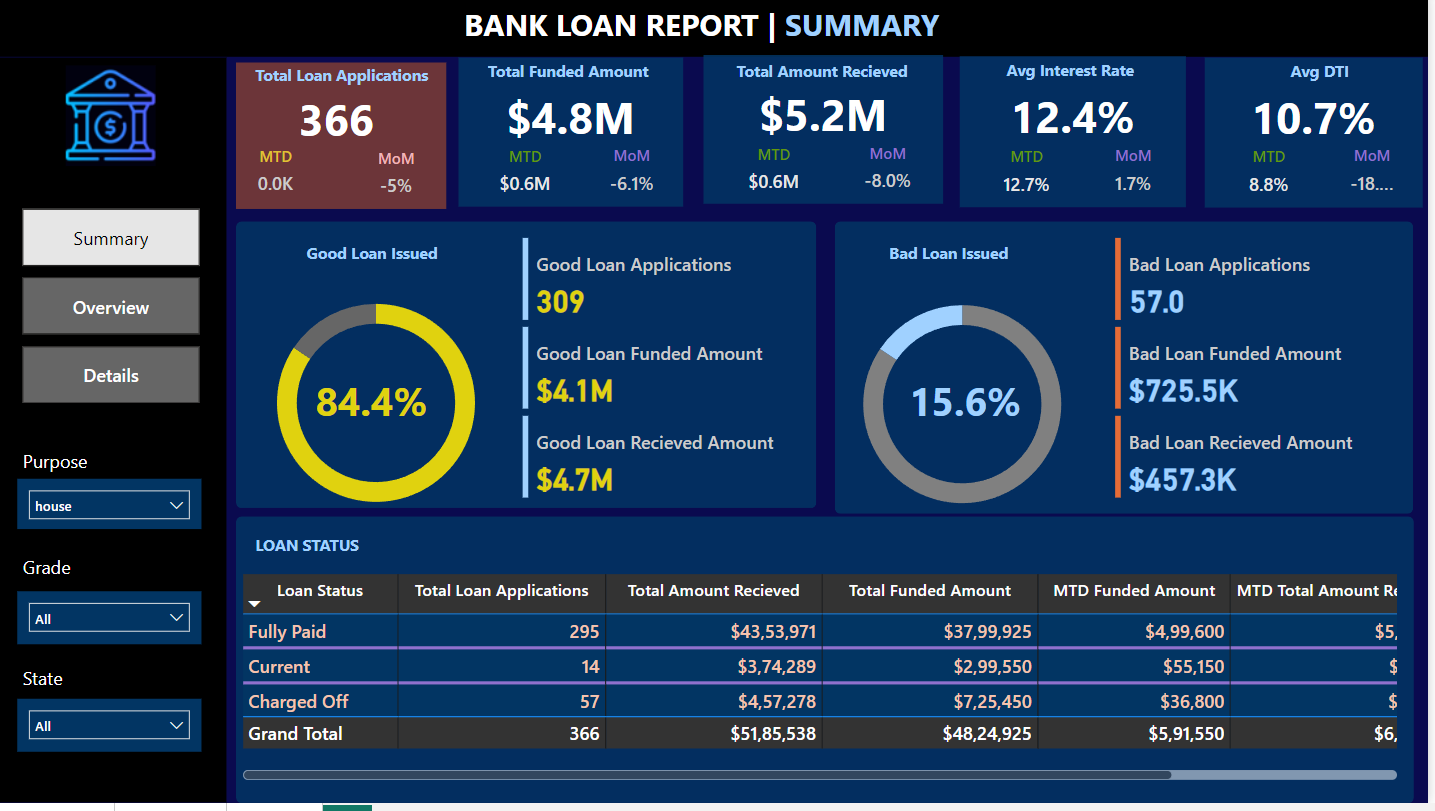

The dashboard page shown, as its layout file describes it:
{"tool":"powerbi","page":{"name":"Summary","canvas":[1280,720],"ordinal":0},"visuals":[{"type":"shape","box":[0,0,1280.3,55],"z":0},{"type":"shape","box":[633.9,54.5,213.3,132.4],"z":0,"group":"g13"},{"type":"shape","box":[862.1,54.6,201.3,134.8],"z":0,"group":"g10"},{"type":"shape","box":[416.5,55.8,200.2,132.9],"z":0,"group":"g11"},{"type":"shape","box":[1080.7,55.8,194.1,133.6],"z":0,"group":"g12"},{"type":"card","fields":{"Values":["Bank_Loan.Total Amount Recieved"]},"box":[633.8,74.7,213.3,63.2],"z":1000,"group":"g13"},{"type":"card","fields":{"Values":["Bank_Loan.Avg Interest Rate"]},"box":[862,75.1,201.3,64.3],"z":1000,"group":"g10"},{"type":"card","fields":{"Values":["Bank_Loan.Total Funded Amount"]},"box":[416.4,76,200.2,63.4],"z":1000,"group":"g11"},{"type":"card","fields":{"Values":["Bank_Loan.Avg DTI"]},"box":[1080.6,76.1,194.1,63.7],"z":1000,"group":"g12"},{"type":"shape","box":[218.1,463.9,1048.6,255.6],"z":1000},{"type":"textbox","box":[883.7,51.9,179.7,39.1],"z":2000,"group":"g10"},{"type":"textbox","box":[438,53.1,178.7,38.5],"z":2000,"group":"g11"},{"type":"textbox","box":[1101.5,53.1,173.3,38.7],"z":2000,"group":"g12"},{"type":"textbox","box":[657.7,54,177.8,41.7],"z":2000,"group":"g13"},{"type":"shape","box":[218.1,59.7,187.5,130.6],"z":2000},{"type":"shape","box":[0,56.1,209.8,663.4],"z":3000},{"type":"card","title":"MTD","fields":{"Values":["Bank_Loan.MTD Total Amount Recieved"]},"box":[659.7,132.9,74.3,53.4],"z":3000,"group":"g13"},{"type":"card","title":"MTD","fields":{"Values":["Bank_Loan.MTD Funded Amount"]},"box":[440.7,134.4,69.7,53.5],"z":3000,"group":"g11"},{"type":"card","title":"MTD","fields":{"Values":["Bank_Loan.MTD Avg Interest Rate"]},"box":[886.4,134.4,70.1,54.3],"z":3000,"group":"g10"},{"type":"card","title":"MTD","fields":{"Values":["Bank_Loan.MTD Average DTI"]},"box":[1104.2,134.9,67.6,53.8],"z":3000,"group":"g12"},{"type":"group","id":"g1","title":"Group 3","box":[862,51.9,201.4,137.5],"z":3001,"group":"g9"},{"type":"group","id":"g2","title":"Group 3","box":[416.4,53.1,200.3,135.5],"z":3001,"group":"g6"},{"type":"group","id":"g3","title":"Group 3","box":[633.8,54,213.4,133],"z":3001,"group":"g7"},{"type":"group","id":"g4","title":"Group 4","box":[416.4,53.1,200.3,135.5],"z":3002,"group":"g2"},{"type":"group","id":"g5","title":"Group 4","box":[1080.6,53.1,194.2,136.3],"z":3002,"group":"g8"},{"type":"card","fields":{"Values":["Bank_Loan.Toatl Loan Applications"]},"box":[209.6,79.3,196.5,62.6],"z":4000},{"type":"card","title":"MoM","fields":{"Values":["Bank_Loan.MOM Total Amount Recieved"]},"box":[767.2,131.3,60.9,54.3],"z":4000,"group":"g13"},{"type":"card","title":"MoM","fields":{"Values":["Bank_Loan.MOM Total Funded Amount"]},"box":[541.6,132.8,57.2,54.5],"z":4000,"group":"g11"},{"type":"card","title":"MoM","fields":{"Values":["Bank_Loan.MoM Avg Interest rate"]},"box":[987.9,132.8,57.5,55.3],"z":4000,"group":"g10"},{"type":"card","title":"MoM","fields":{"Values":["Bank_Loan.MOM Avg DTI"]},"box":[1202,133.3,55.4,54.8],"z":4000,"group":"g12"},{"type":"textbox","box":[230.8,56.7,175.4,38.1],"z":5000},{"type":"shape","box":[218.1,201.4,516.7,255.6],"z":6000},{"type":"card","title":"MTD","fields":{"Values":["Bank_Loan.MTD Loan Applications"]},"box":[230.2,135.1,46.1,53.1],"z":7000},{"type":"card","title":"MoM","fields":{"Values":["Bank_Loan.MOM Loan Applications"]},"box":[332.5,135.4,56.1,53.8],"z":8000},{"type":"card","fields":{"Values":["Bank_Loan.Good Loan %"]},"box":[276.2,340.1,125.4,42.2],"z":9000},{"type":"textbox","box":[416.1,3.6,447.4,48.2],"z":10000},{"type":"group","id":"g6","title":"Group 1","box":[416.4,53.1,200.3,135.5],"z":11000},{"type":"group","id":"g7","title":"Group 1","box":[633.8,54,213.4,133],"z":12000},{"type":"group","id":"g8","title":"Group 3","box":[1080.6,53.1,194.2,136.3],"z":13000},{"type":"group","id":"g9","title":"Group 1","box":[862,51.9,201.4,137.5],"z":14000},{"type":"donutChart","fields":{"Category":["Bank_Loan.Good Vs Bad Loan"],"Y":["Bank_Loan.Toatl Loan Applications"]},"box":[218.3,248.4,249.6,230.4],"z":15000},{"type":"shape","box":[751.4,201.4,515,260.5],"z":16000},{"type":"donutChart","fields":{"Category":["Bank_Loan.Good Vs Bad Loan"],"Y":["Bank_Loan.Toatl Loan Applications"]},"box":[740.5,249.6,249.6,230.4],"z":17000},{"type":"textbox","box":[276.4,215.3,134.7,34.7],"z":19000},{"type":"cardVisual","fields":{"Data":["Bank_Loan.Good Loan Applications","Bank_Loan.Good Loan Funded Amount","Bank_Loan.Good Loan Recieved Amount"]},"box":[468.3,211,258.5,242.7],"z":20000},{"type":"card","fields":{"Values":["Bank_Loan.Bad Loan %"]},"box":[804.4,340.1,125.4,42.2],"z":21000},{"type":"textbox","box":[794.4,215.3,134.7,33.3],"z":22000},{"type":"cardVisual","fields":{"Data":["Bank_Loan.Bad Loan Applications","Bank_Loan.Bad Loan Funded Amount","Bank_Loan.Bad Loan Recieved Amount"]},"box":[996.2,211.1,252.1,242.4],"z":23000},{"type":"tableEx","fields":{"Values":["Bank_Loan.loan_status","Bank_Loan.Toatl Loan Applications","Bank_Loan.Total Amount Recieved","Bank_Loan.Total Funded Amount","Bank_Loan.MTD Funded Amount","Bank_Loan.MTD Total Amount Recieved","Bank_Loan.Avg Interest Rate","Bank_Loan.Avg DTI"]},"box":[218.1,511.1,1038.9,193.1],"z":24000},{"type":"textbox","box":[230.6,475,180.6,36.1],"z":25000},{"type":"slicer","fields":{"Values":["Bank_Loan.address_state"]},"box":[23.6,626.4,163.9,47.2],"z":26000},{"type":"textbox","box":[23.6,591.7,163.9,34.7],"z":27000},{"type":"slicer","fields":{"Values":["Bank_Loan.grade"]},"box":[23.6,530.6,163.9,47.2],"z":28000},{"type":"slicer","fields":{"Values":["Bank_Loan.purpose"]},"box":[23.6,430.6,163.9,44.4],"z":29000},{"type":"textbox","box":[23.6,493.1,109.7,37.5],"z":30000},{"type":"textbox","box":[23.6,398.6,118.1,31.9],"z":31000},{"type":"group","id":"g10","title":"Group 7","box":[862,51.9,201.4,137.5],"z":31002,"group":"g1"},{"type":"group","id":"g11","title":"Group 5","box":[416.4,53.1,200.3,135.5],"z":31002,"group":"g4"},{"type":"group","id":"g12","title":"Group 8","box":[1080.6,53.1,194.2,136.3],"z":31002,"group":"g5"},{"type":"group","id":"g13","title":"Group 6","box":[633.8,54,213.4,133],"z":31002,"group":"g3"},{"type":"image","box":[54.5,57.9,104.6,99],"z":32000},{"type":"pageNavigator","box":[28,190.2,158.5,174.4],"z":33000}]}

Visuals, with their boxes in screenshot pixels (x1, y1, x2, y2), scaled from the page's 1280x720 canvas onto the 1435x811 screenshot:
shape: Rect(0, 0, 1434, 62)
shape: Rect(711, 61, 950, 211)
shape: Rect(966, 62, 1192, 213)
shape: Rect(467, 63, 691, 213)
shape: Rect(1212, 63, 1429, 213)
card - Bank_Loan.Total Amount Recieved: Rect(711, 84, 950, 155)
card - Bank_Loan.Avg Interest Rate: Rect(966, 85, 1192, 157)
card - Bank_Loan.Total Funded Amount: Rect(467, 86, 691, 157)
card - Bank_Loan.Avg DTI: Rect(1211, 86, 1429, 157)
shape: Rect(245, 523, 1420, 810)
textbox: Rect(991, 58, 1192, 103)
textbox: Rect(491, 60, 691, 103)
textbox: Rect(1235, 60, 1429, 103)
textbox: Rect(737, 61, 937, 108)
shape: Rect(245, 67, 455, 214)
shape: Rect(0, 63, 235, 810)
"MTD" card: Rect(740, 150, 823, 210)
"MTD" card: Rect(494, 151, 572, 212)
"MTD" card: Rect(994, 151, 1072, 213)
"MTD" card: Rect(1238, 152, 1314, 213)
"Group 3" group: Rect(966, 58, 1192, 213)
"Group 3" group: Rect(467, 60, 691, 212)
"Group 3" group: Rect(711, 61, 950, 211)
"Group 4" group: Rect(467, 60, 691, 212)
"Group 4" group: Rect(1211, 60, 1429, 213)
card - Bank_Loan.Toatl Loan Applications: Rect(235, 89, 455, 160)
"MoM" card: Rect(860, 148, 928, 209)
"MoM" card: Rect(607, 150, 671, 211)
"MoM" card: Rect(1108, 150, 1172, 212)
"MoM" card: Rect(1348, 150, 1410, 212)
textbox: Rect(259, 64, 455, 107)
shape: Rect(245, 227, 824, 515)
"MTD" card: Rect(258, 152, 310, 212)
"MoM" card: Rect(373, 153, 436, 213)
card - Bank_Loan.Good Loan %: Rect(310, 383, 450, 431)
textbox: Rect(466, 4, 968, 58)
"Group 1" group: Rect(467, 60, 691, 212)
"Group 1" group: Rect(711, 61, 950, 211)
"Group 3" group: Rect(1211, 60, 1429, 213)
"Group 1" group: Rect(966, 58, 1192, 213)
donutChart - Bank_Loan.Good Vs Bad Loan x Bank_Loan.Toatl Loan Applications: Rect(245, 280, 525, 539)
shape: Rect(842, 227, 1420, 520)
donutChart - Bank_Loan.Good Vs Bad Loan x Bank_Loan.Toatl Loan Applications: Rect(830, 281, 1110, 541)
textbox: Rect(310, 243, 461, 282)
cardVisual - Bank_Loan.Good Loan Applications x Bank_Loan.Good Loan Funded Amount: Rect(525, 238, 815, 511)
card - Bank_Loan.Bad Loan %: Rect(902, 383, 1042, 431)
textbox: Rect(891, 243, 1042, 280)
cardVisual - Bank_Loan.Bad Loan Applications x Bank_Loan.Bad Loan Funded Amount: Rect(1117, 238, 1399, 511)
tableEx - Bank_Loan.loan_status x Bank_Loan.Toatl Loan Applications: Rect(245, 576, 1409, 793)
textbox: Rect(259, 535, 461, 576)
slicer - Bank_Loan.address_state: Rect(26, 706, 210, 759)
textbox: Rect(26, 666, 210, 706)
slicer - Bank_Loan.grade: Rect(26, 598, 210, 651)
slicer - Bank_Loan.purpose: Rect(26, 485, 210, 535)
textbox: Rect(26, 555, 149, 598)
textbox: Rect(26, 449, 159, 485)
"Group 7" group: Rect(966, 58, 1192, 213)
"Group 5" group: Rect(467, 60, 691, 212)
"Group 8" group: Rect(1211, 60, 1429, 213)
"Group 6" group: Rect(711, 61, 950, 211)
image: Rect(61, 65, 178, 177)
pageNavigator: Rect(31, 214, 209, 411)
